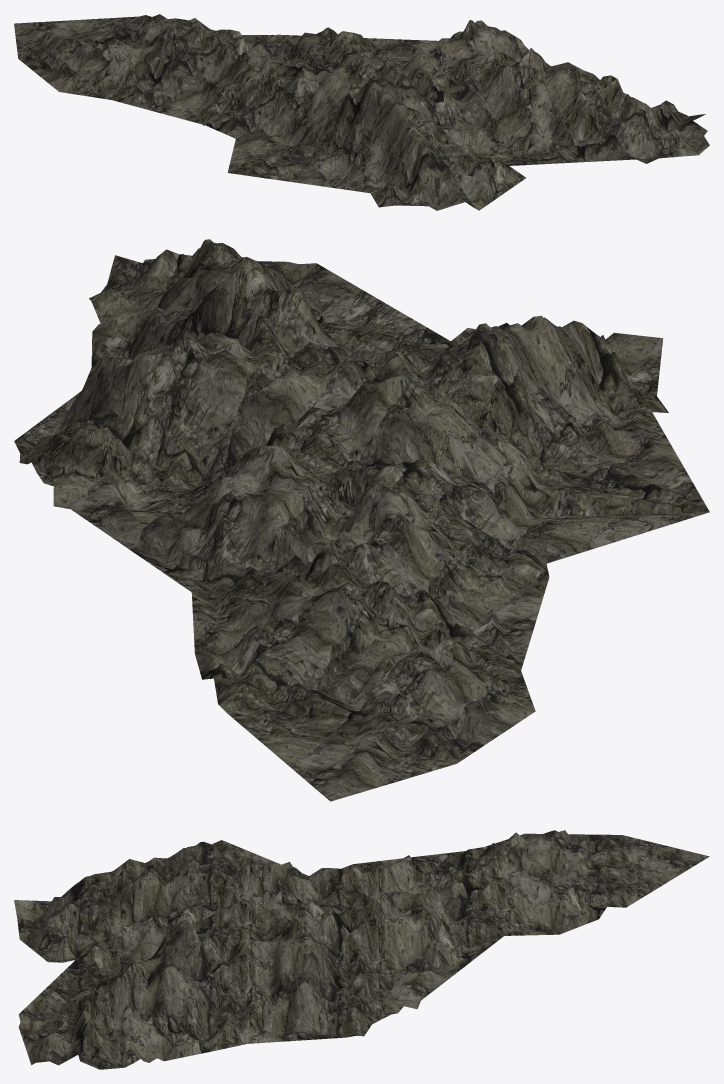
Rendered from SM_mid_mountainB.FBX.
The picture shows the model from 3 angles, top to bottom: view 1: azimuth 30°, elevation 25°; view 2: azimuth 150°, elevation 25°; view 3: azimuth 270°, elevation 25°; orthographic projection. The views are drawn at different scales.
Parts seen in each view (by area): view 1: SM_mid_mountainB; view 2: SM_mid_mountainB; view 3: SM_mid_mountainB.
Boxes of the visible parts, box(x1,y1,x2,y2) form: SM_mid_mountainB: box(14, 14, 709, 210); SM_mid_mountainB: box(14, 239, 709, 801); SM_mid_mountainB: box(14, 830, 709, 1069).
Size of the model in its own units: 42.43 by 7.38 by 51.2.
